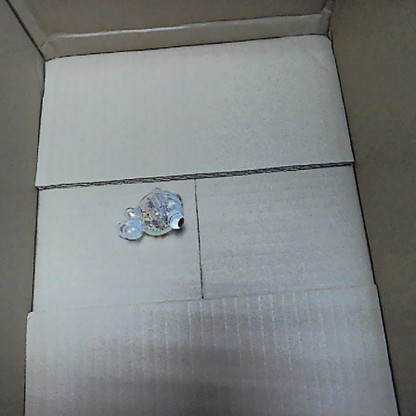whitefish: (120, 182, 186, 243)
